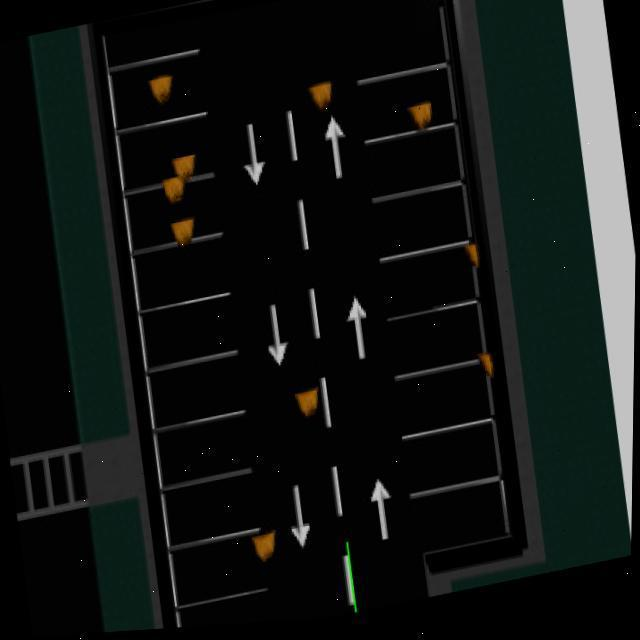garbage-trXY: (460, 237, 489, 270), (147, 77, 177, 106), (306, 84, 338, 109), (407, 101, 434, 128), (475, 346, 499, 376), (168, 217, 196, 242), (246, 533, 276, 556), (171, 155, 198, 180), (296, 392, 320, 419), (161, 176, 187, 199)
